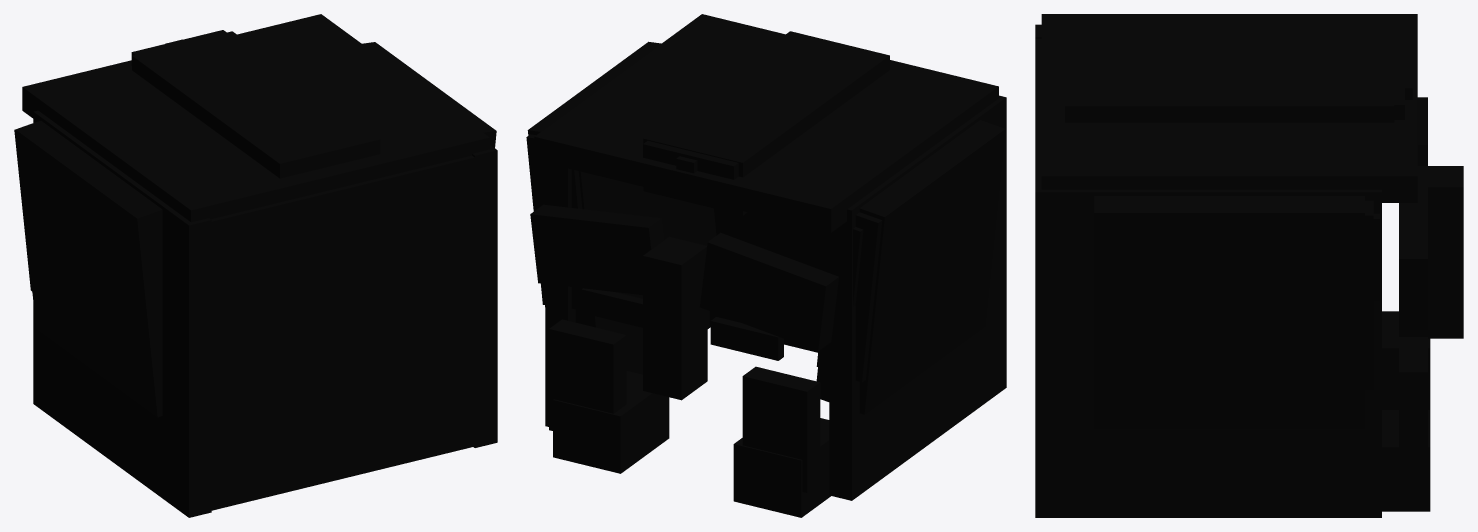
File: crystal_carapace_helmet.obj
The picture shows the model from 3 angles, left to right: view 1: azimuth 30°, elevation 25°; view 2: azimuth 150°, elevation 25°; view 3: azimuth 270°, elevation 25°; orthographic projection. The views are drawn at different scales.
Size of the model in its own units: 0.875 by 0.7614 by 0.8104.
